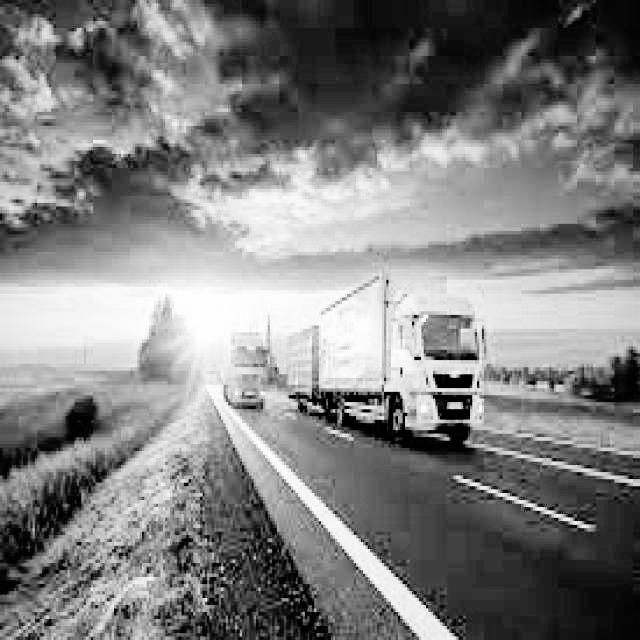HCV: (280, 284, 532, 464)
